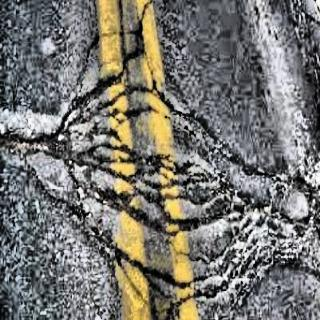alligator-crack: (22, 38, 313, 303)
